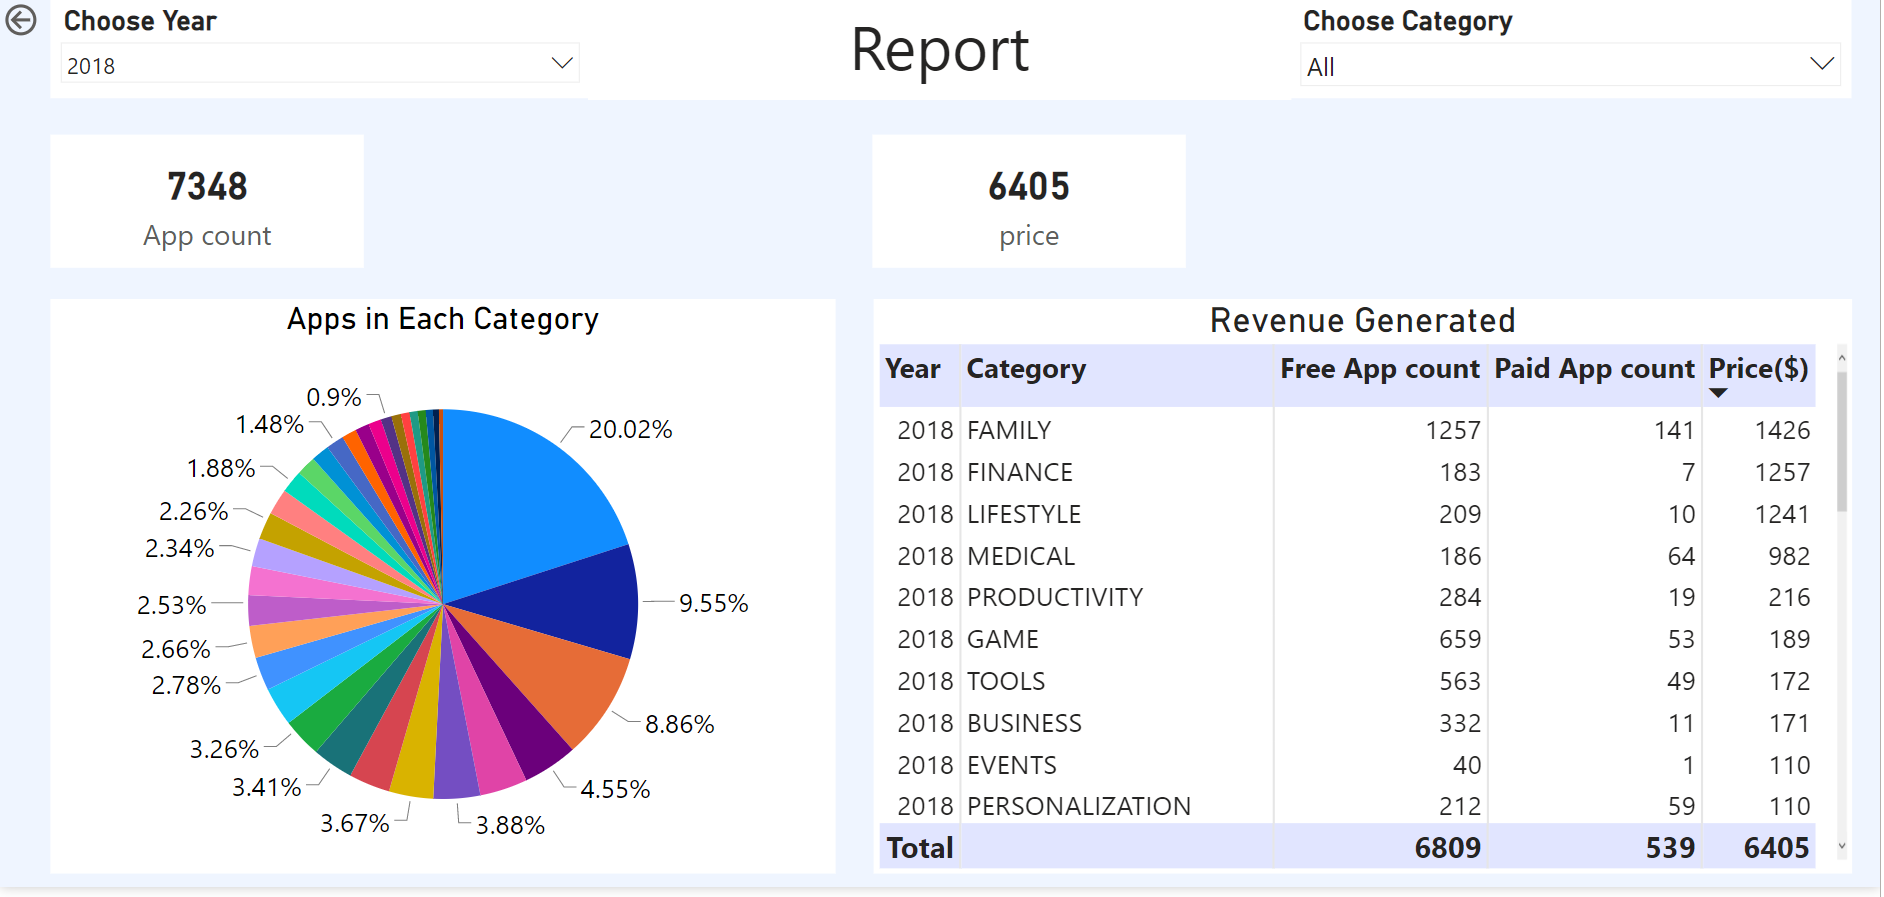

This screenshot's page, from the dashboard's own definition file:
{"tool":"powerbi","page":{"name":"App Category","canvas":[1800,850],"ordinal":1},"visuals":[{"type":"slicer","fields":{"Values":["Table1.last_update"]},"box":[48.3,0,516.7,95],"z":0},{"type":"textbox","box":[563.3,0,673.3,96.7],"z":1000},{"type":"slicer","fields":{"Values":["Table1.category"]},"box":[1235,0,537.5,95],"z":2000},{"type":"card","fields":{"Values":["CountNonNull(Table1.app)"]},"box":[48.3,130,300,127.5],"z":3000},{"type":"pieChart","title":"Apps in Each Category","fields":{"Category":["Table1.category"],"Y":["CountNonNull(Table1.app)"]},"box":[48.6,287.1,751.4,550],"z":4000},{"type":"tableEx","title":"Revenue Generated","fields":{"Values":["Table1.last_update","Table1.category","Table1.Free App count","Table1.Paid App count","Sum(Table1.price)"]},"box":[836.7,286.7,936.7,550],"z":5000},{"type":"actionButton","box":[0,0,48.3,40],"z":6000},{"type":"card","fields":{"Values":["Sum(Table1.price)"]},"box":[835,130,300,127.5],"z":7000}]}

Visuals, with their boxes in screenshot pixels (x1, y1, x2, y2), scaled from the page's 1800x850 canvas onto the 1884x897 screenshot:
slicer - Table1.last_update: region(51, 0, 591, 100)
textbox: region(590, 0, 1294, 102)
slicer - Table1.category: region(1293, 0, 1855, 100)
card - CountNonNull(Table1.app): region(51, 137, 365, 272)
"Apps in Each Category" pieChart: region(51, 303, 837, 883)
"Revenue Generated" tableEx: region(876, 303, 1856, 883)
actionButton: region(0, 0, 51, 42)
card - Sum(Table1.price): region(874, 137, 1188, 272)
